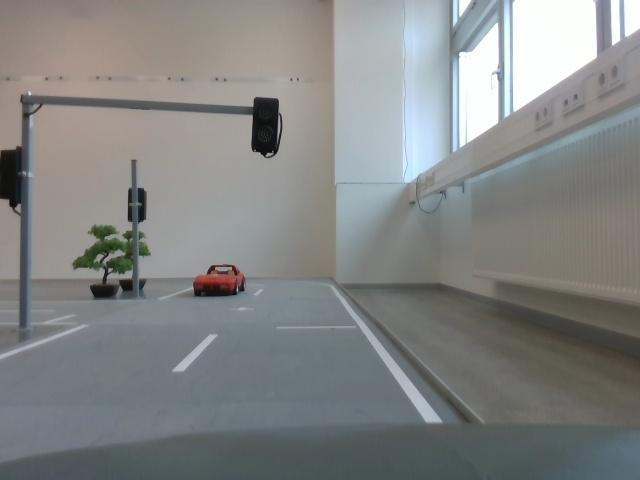car: (192, 264, 251, 296)
potted plant: (73, 224, 125, 302), (122, 228, 151, 297)
traffic light: (2, 148, 35, 207), (253, 96, 281, 156), (129, 189, 152, 225)
